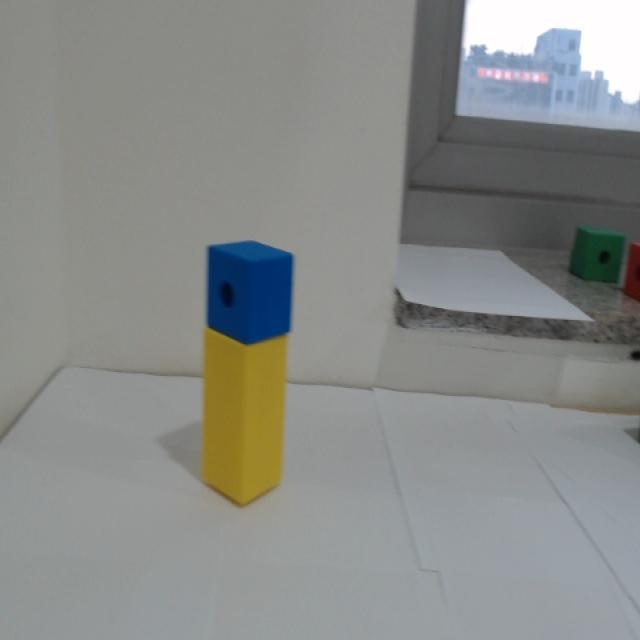cube: (207, 238, 295, 346)
